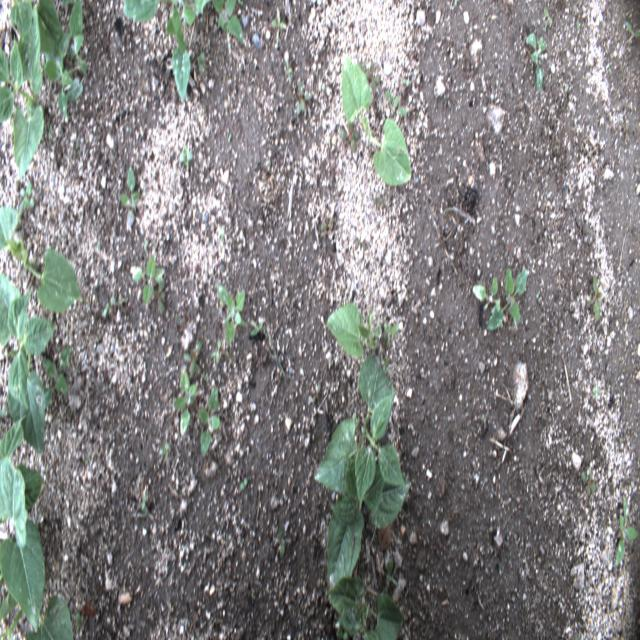crop: (314, 354, 407, 508), (0, 454, 74, 640), (326, 453, 412, 602), (0, 272, 55, 455), (0, 414, 45, 633), (342, 52, 412, 186), (0, 205, 83, 314), (0, 6, 45, 184), (326, 576, 403, 640), (10, 0, 69, 71), (325, 302, 382, 356)
weed: (122, 0, 213, 101), (41, 30, 90, 120), (487, 268, 528, 330), (36, 344, 72, 411), (216, 282, 248, 344), (614, 494, 638, 567), (129, 255, 166, 302), (66, 0, 88, 77), (198, 386, 221, 458), (173, 368, 197, 436), (118, 166, 141, 233), (210, 0, 243, 43), (526, 32, 546, 94), (472, 275, 501, 312), (337, 118, 362, 155), (589, 273, 603, 321), (270, 5, 287, 44), (150, 274, 166, 315), (188, 338, 204, 378), (273, 526, 292, 558), (269, 340, 285, 378), (385, 90, 407, 116), (19, 180, 36, 213), (184, 349, 202, 377), (365, 60, 381, 90), (295, 91, 313, 116), (580, 468, 596, 495), (101, 294, 118, 319), (210, 337, 224, 364), (384, 324, 399, 347), (624, 21, 640, 42), (224, 346, 238, 370), (387, 556, 398, 586), (179, 144, 193, 167), (297, 81, 307, 113), (376, 575, 389, 597), (372, 192, 384, 213), (380, 331, 390, 356), (543, 8, 553, 32), (381, 357, 393, 377), (420, 404, 430, 427), (321, 214, 335, 230), (250, 319, 263, 336), (72, 139, 83, 159), (572, 5, 580, 32), (240, 580, 252, 598), (336, 624, 349, 640), (284, 58, 292, 84), (371, 87, 380, 109), (197, 51, 206, 72), (355, 237, 368, 251), (219, 225, 224, 257), (357, 60, 367, 75), (160, 442, 170, 456), (76, 612, 84, 629), (592, 386, 601, 399), (176, 315, 185, 328), (104, 154, 114, 165), (240, 477, 248, 490), (353, 413, 358, 433), (402, 75, 410, 87), (141, 494, 147, 510), (84, 452, 90, 467), (535, 289, 541, 301), (404, 588, 409, 600), (48, 122, 52, 137), (607, 60, 611, 74), (236, 0, 244, 7), (250, 592, 256, 600), (227, 132, 231, 144), (205, 372, 209, 384), (118, 297, 126, 303), (454, 0, 459, 6)
